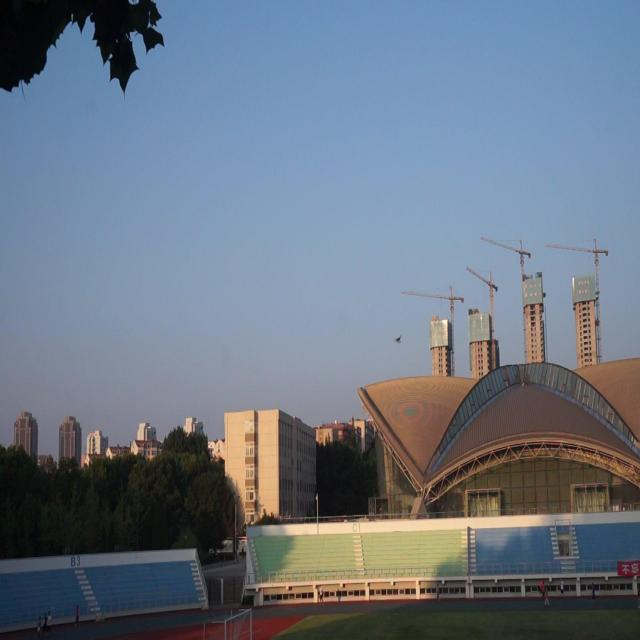UAV: (393, 335, 402, 344)
